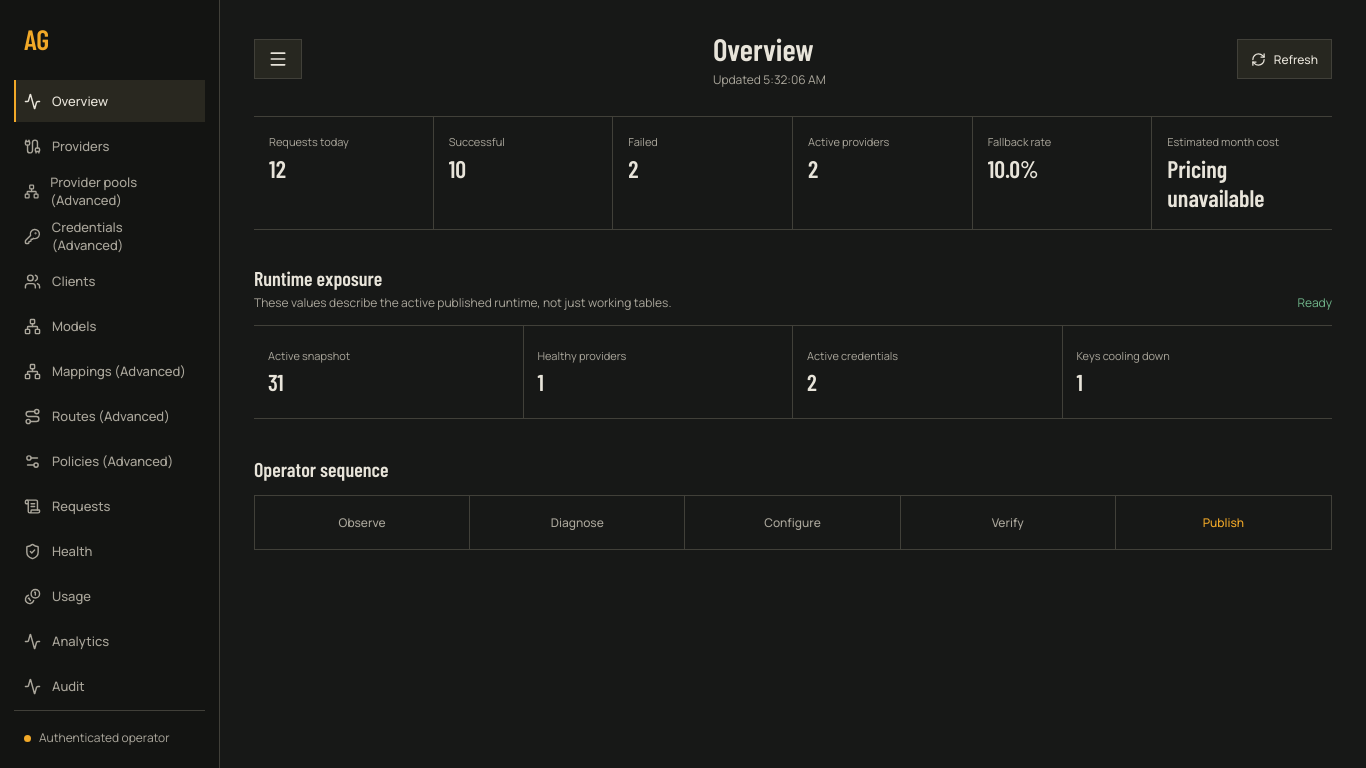
Test: control plane › shows human-readable audit resource names instead of raw ids
This screenshot has width=1366, height=768.
Click the button "Audit" at [110, 686], box [14,665,205,707]
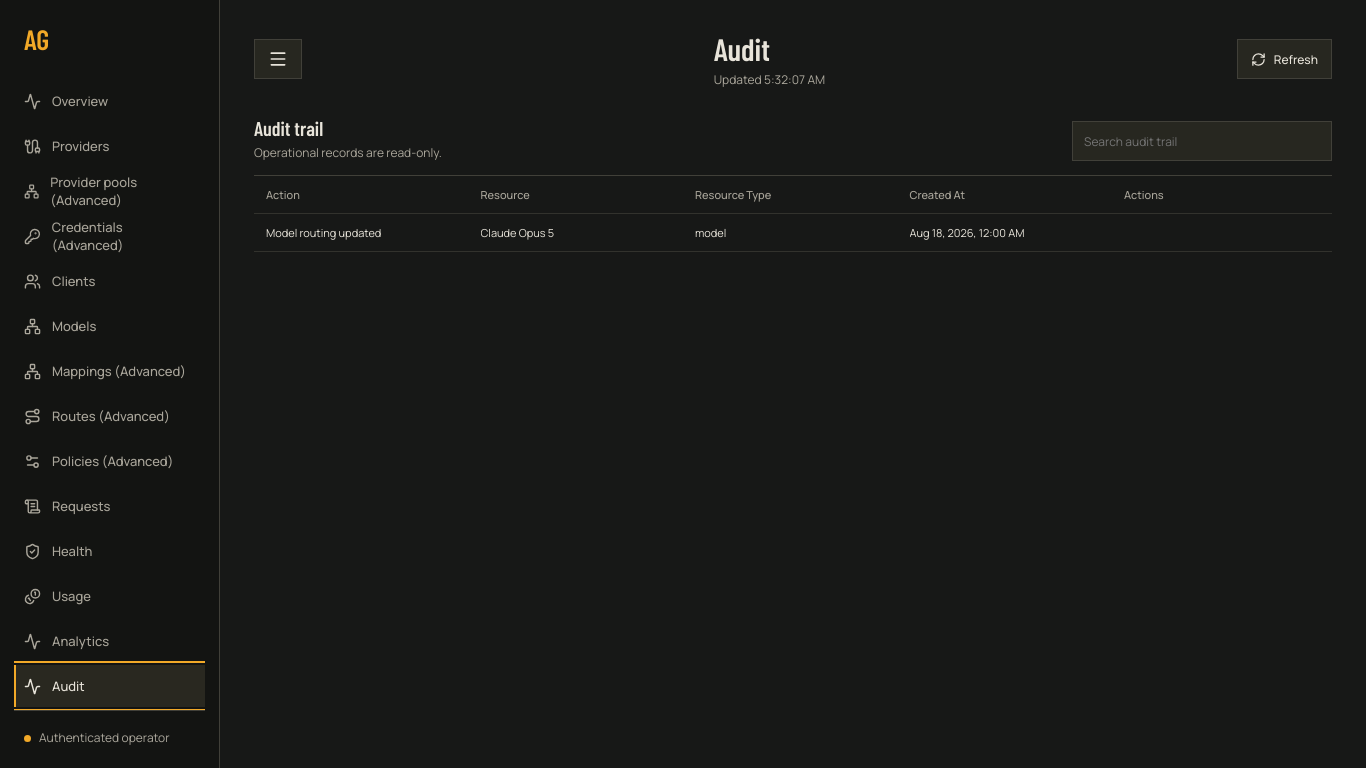
Expected: the text "Claude Opus 5" is shown, [480,225,554,240]
Expected: the text "Model routing updated" is shown, [266,225,381,240]
